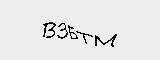Г: (64, 15, 80, 33)
Д: (17, 15, 44, 38)
Ж: (117, 18, 139, 35)
Н: (81, 15, 100, 31)
Я: (42, 15, 62, 35)
Ғ: (101, 16, 116, 30)
